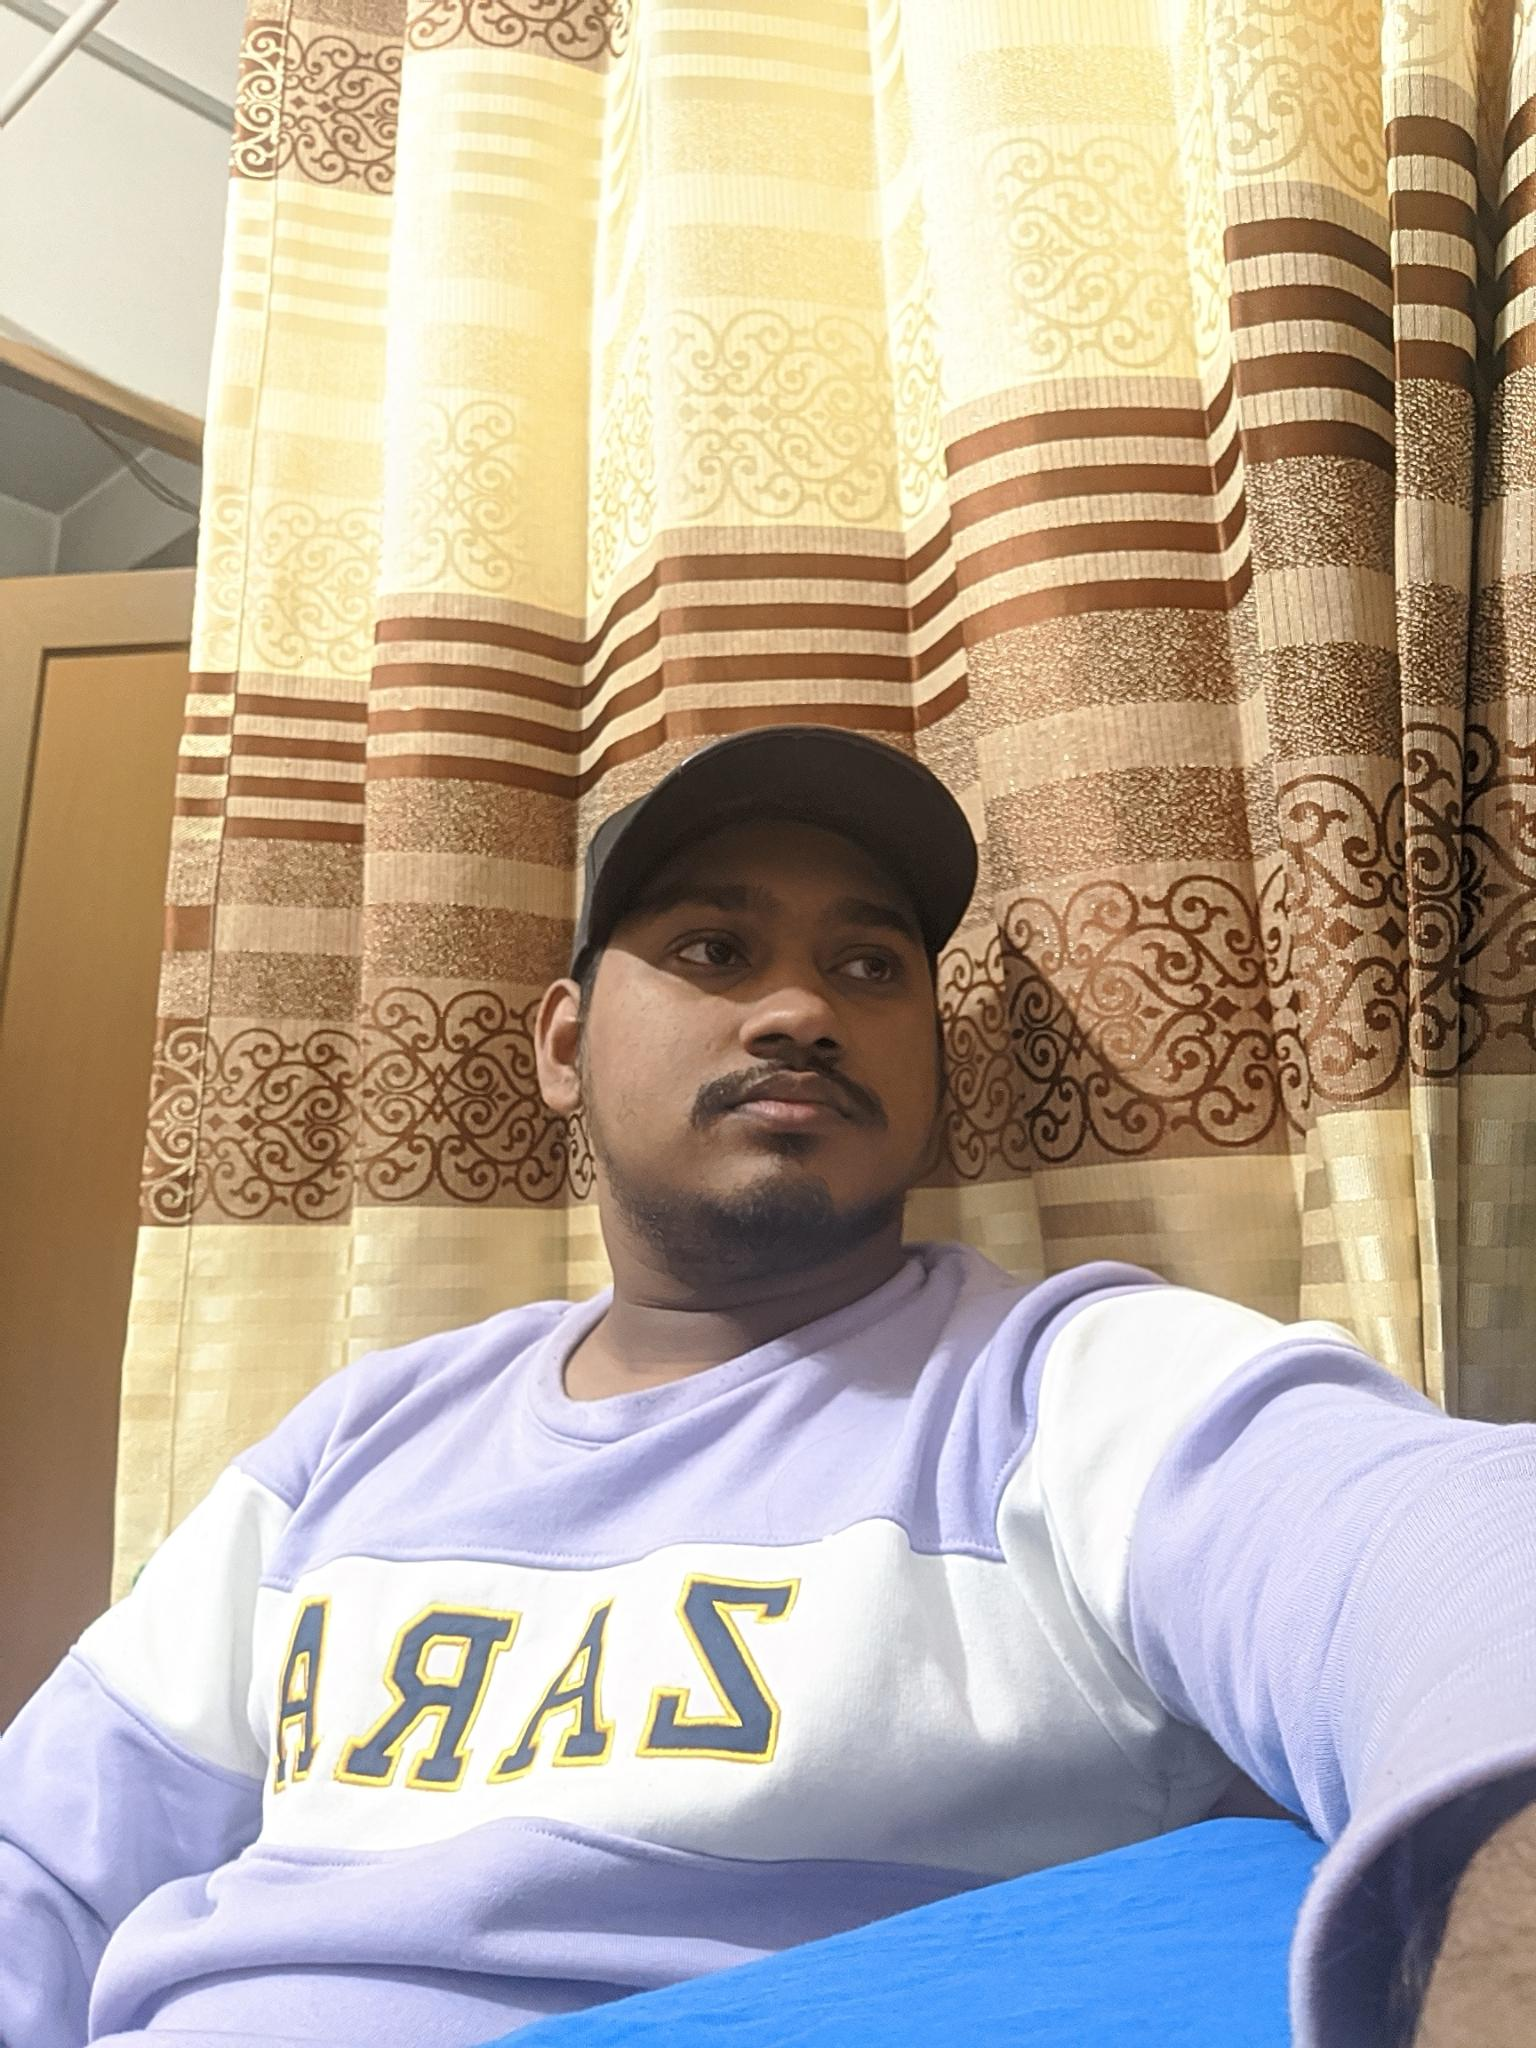Neutral: (610, 847, 931, 1230)
